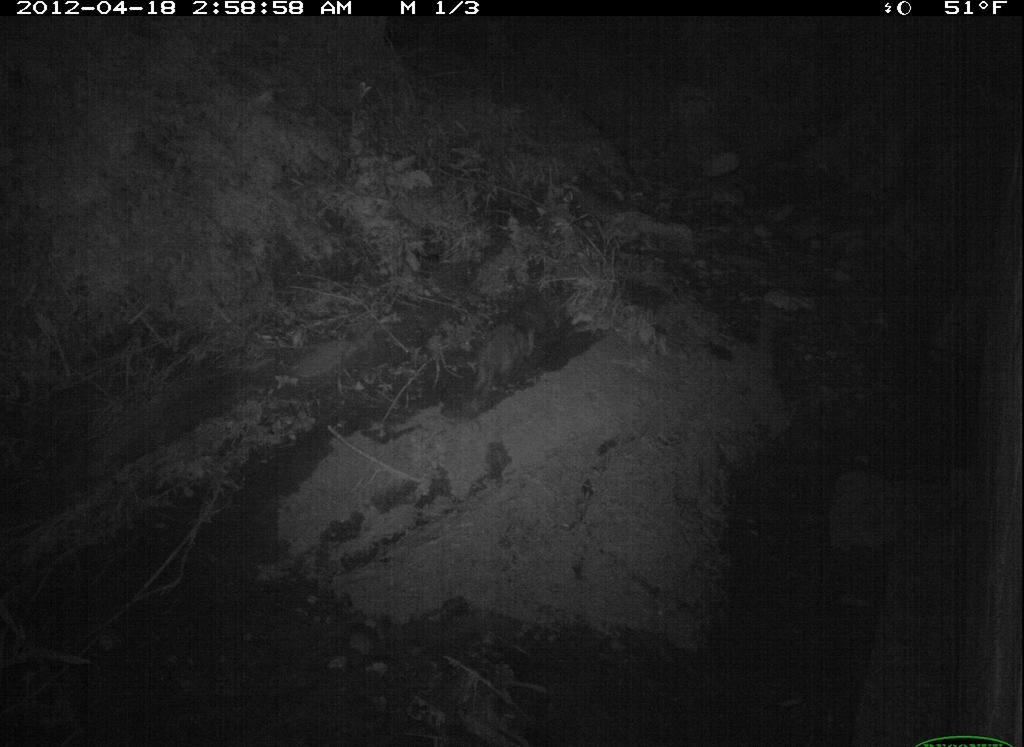opossum: (466, 319, 559, 404)
